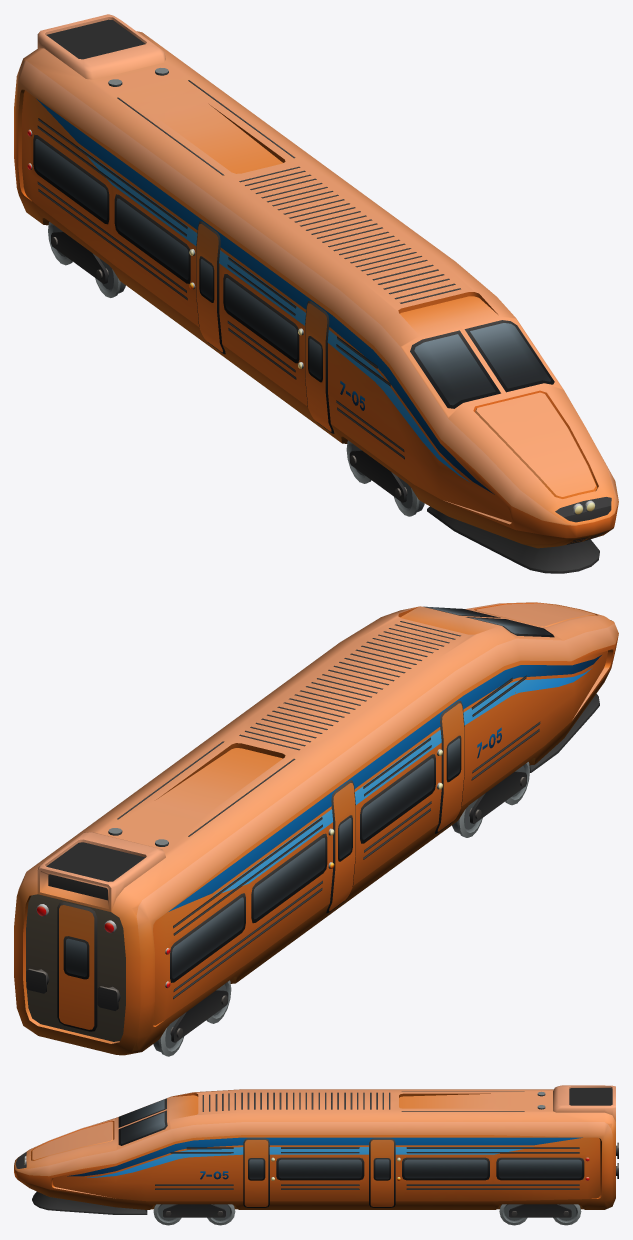
Rendered from Train_Cart_1B.fbx.
3 renders of one model, top to bottom at view 1: azimuth 30°, elevation 25°; view 2: azimuth 150°, elevation 25°; view 3: azimuth 270°, elevation 25°, orthographic. The views are drawn at different scales.
Parts seen in each view (by area): view 1: Train_Cart_1B, Train_Cart_1B_Livery; view 2: Train_Cart_1B, Train_Cart_1B_Livery; view 3: Train_Cart_1B, Train_Cart_1B_Livery, Train_Cart_1B_Wheel_R.L, Train_Cart_1B_Wheel_M1.L, Train_Cart_1B_Wheel_F.L, Train_Cart_1B_Wheel_M2.L.
Boxes of the visible parts, bbox=[...] form: Train_Cart_1B: bbox=[14, 14, 618, 573]; Train_Cart_1B_Livery: bbox=[36, 98, 494, 494]; Train_Cart_1B: bbox=[14, 602, 618, 1055]; Train_Cart_1B_Livery: bbox=[168, 655, 601, 911]; Train_Cart_1B: bbox=[14, 1085, 618, 1217]; Train_Cart_1B_Livery: bbox=[67, 1137, 582, 1179]; Train_Cart_1B_Wheel_R.L: bbox=[553, 1204, 581, 1225]; Train_Cart_1B_Wheel_M1.L: bbox=[207, 1204, 235, 1225]; Train_Cart_1B_Wheel_F.L: bbox=[153, 1204, 181, 1225]; Train_Cart_1B_Wheel_M2.L: bbox=[499, 1204, 527, 1225].
Bounding box in the file's own units: 3.03 × 3.98 × 19.24.
